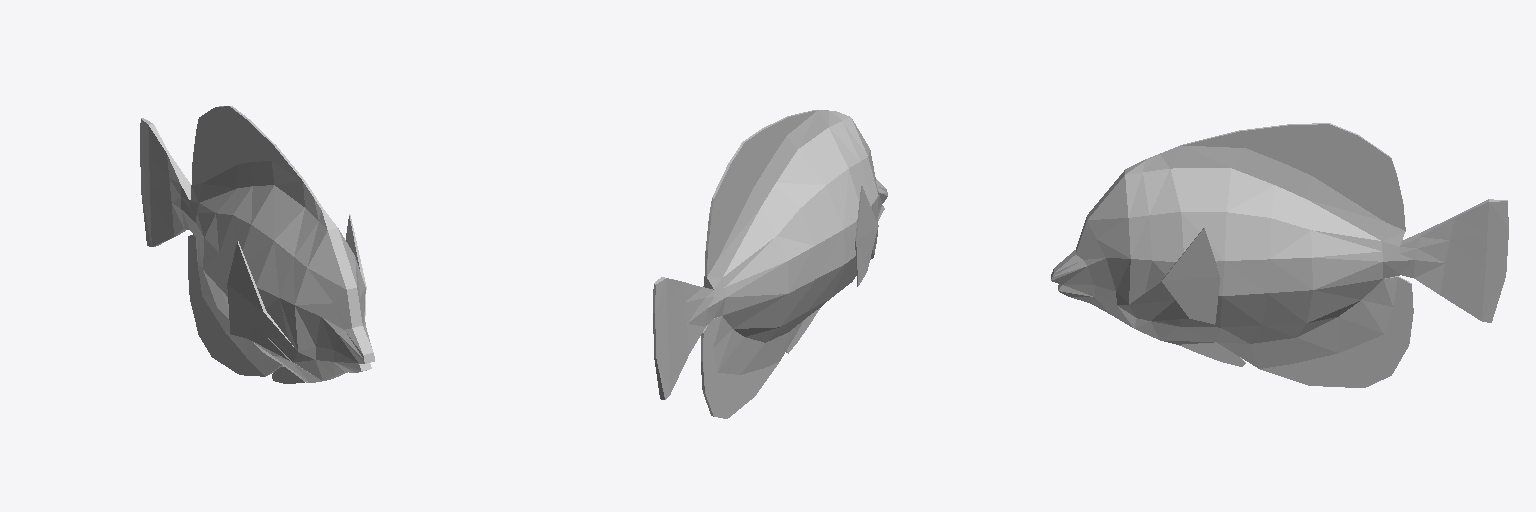
The model's file is TropicalFish1.obj.
3 renders of one model, left to right at view 1: azimuth 30°, elevation 25°; view 2: azimuth 150°, elevation 25°; view 3: azimuth 270°, elevation 25°, orthographic.
Visible parts, largest first — view 1: TropicalFish01_TropicalFish01_01___Default_TropicalFish01_Tropi; view 2: TropicalFish01_TropicalFish01_01___Default_TropicalFish01_Tropi; view 3: TropicalFish01_TropicalFish01_01___Default_TropicalFish01_Tropi.
Part boxes in pixels (x1,y1,x2,y2): TropicalFish01_TropicalFish01_01___Default_TropicalFish01_Tropi: (140, 106, 374, 383); TropicalFish01_TropicalFish01_01___Default_TropicalFish01_Tropi: (653, 110, 887, 418); TropicalFish01_TropicalFish01_01___Default_TropicalFish01_Tropi: (1051, 123, 1508, 387).
Bounding box in the file's own units: 0.3082 × 0.6644 × 1.04.